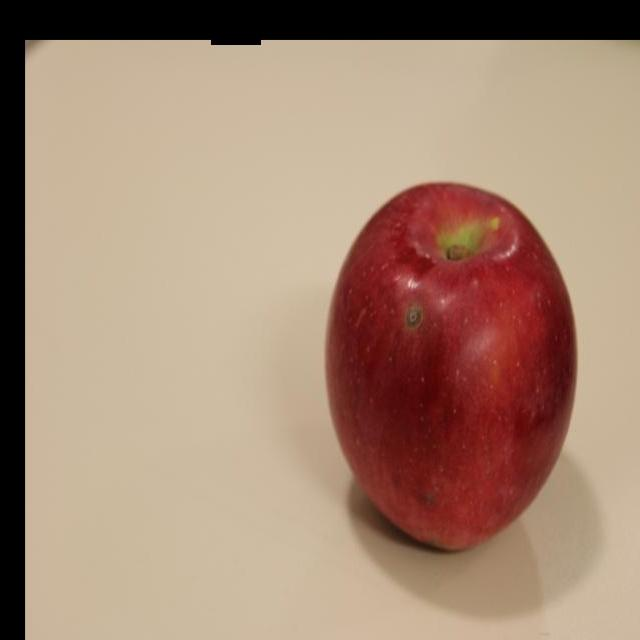red apple: (322, 179, 577, 552)
